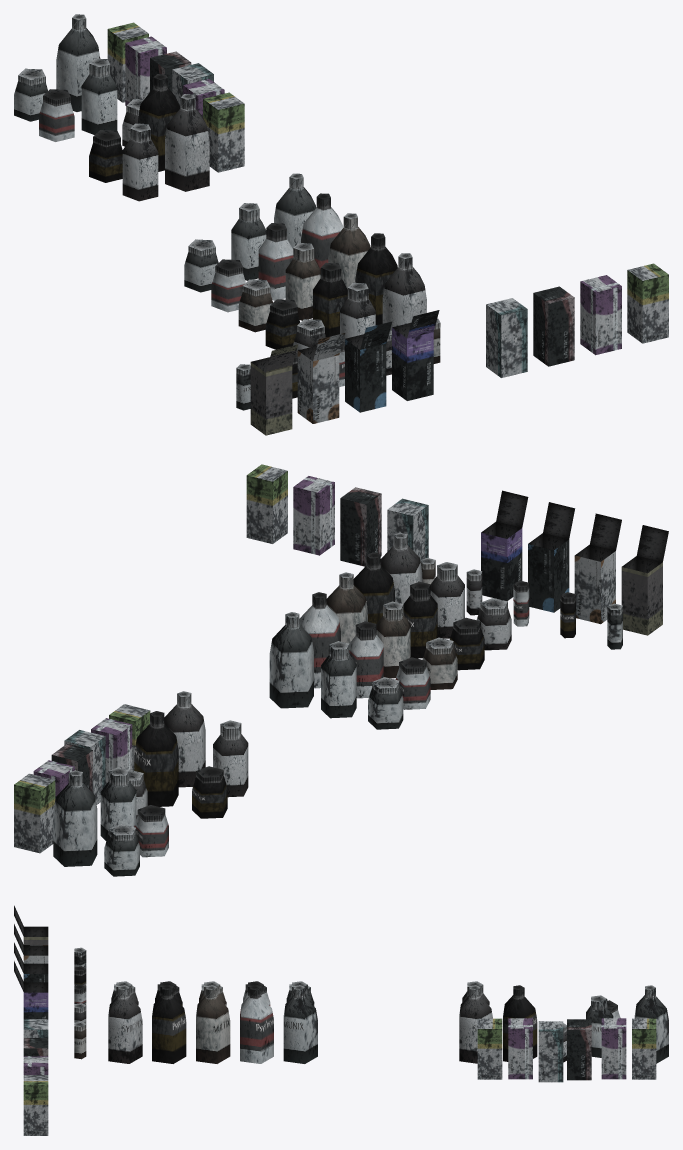
The model's file is medicines.fbx.
3 renders of one model, top to bottom at view 1: azimuth 30°, elevation 25°; view 2: azimuth 150°, elevation 25°; view 3: azimuth 270°, elevation 25°, orthographic. The views are drawn at different scales.
Visible parts, largest first — view 1: medicine_shelf, medicine_box_H, medicine_box_G, medicine_box_F, medicine_box_E, medicine_box_A, medicine_box_B, medicine_box_C, medicine_box_D, medicine_big_A, medicine_mid_C, medicine_mid_E (+13 smaller); view 2: medicine_shelf, medicine_box_H, medicine_box_F, medicine_box_E, medicine_box_G, medicine_big_E, medicine_box_B, medicine_box_A, medicine_box_C, medicine_mid_E, medicine_mid_D, medicine_mid_A (+16 smaller); view 3: medicine_shelf, medicine_big_A, medicine_big_B, medicine_big_C, medicine_big_E, medicine_big_D, medicine_box_A, medicine_box_E, medicine_box_F, medicine_box_H, medicine_box_G, medicine_box_D (+3 smaller).
Boxes of the visible parts, x1=… form: medicine_shelf: x1=14, y1=14, x2=244, y2=201; medicine_box_H: x1=250, y1=344, x2=298, y2=435; medicine_box_G: x1=297, y1=333, x2=345, y2=423; medicine_box_F: x1=345, y1=321, x2=392, y2=412; medicine_box_E: x1=392, y1=310, x2=439, y2=400; medicine_box_A: x1=627, y1=263, x2=668, y2=343; medicine_box_B: x1=580, y1=275, x2=621, y2=355; medicine_box_C: x1=533, y1=286, x2=574, y2=366; medicine_box_D: x1=486, y1=298, x2=527, y2=377; medicine_big_A: x1=382, y1=253, x2=426, y2=330; medicine_mid_C: x1=285, y1=243, x2=320, y2=320; medicine_mid_E: x1=231, y1=203, x2=266, y2=280; medicine_shelf: x1=14, y1=691, x2=248, y2=876; medicine_box_H: x1=621, y1=525, x2=668, y2=635; medicine_box_F: x1=528, y1=502, x2=575, y2=612; medicine_box_E: x1=481, y1=490, x2=528, y2=601; medicine_box_G: x1=574, y1=513, x2=621, y2=624; medicine_big_E: x1=269, y1=612, x2=313, y2=708; medicine_box_B: x1=293, y1=476, x2=334, y2=555; medicine_box_A: x1=246, y1=464, x2=287, y2=543; medicine_box_C: x1=340, y1=487, x2=381, y2=566; medicine_mid_E: x1=321, y1=641, x2=356, y2=718; medicine_mid_D: x1=349, y1=621, x2=383, y2=698; medicine_mid_A: x1=430, y1=562, x2=464, y2=638; medicine_shelf: x1=459, y1=981, x2=668, y2=1082; medicine_big_A: x1=108, y1=985, x2=142, y2=1063; medicine_big_B: x1=152, y1=985, x2=186, y2=1063; medicine_big_C: x1=196, y1=985, x2=230, y2=1063; medicine_big_E: x1=283, y1=985, x2=317, y2=1063; medicine_big_D: x1=240, y1=985, x2=273, y2=1063; medicine_box_A: x1=23, y1=1075, x2=48, y2=1135; medicine_box_E: x1=14, y1=961, x2=48, y2=1019; medicine_box_F: x1=14, y1=942, x2=48, y2=982; medicine_box_H: x1=14, y1=905, x2=48, y2=944; medicine_box_G: x1=14, y1=924, x2=48, y2=963; medicine_box_D: x1=23, y1=1019, x2=48, y2=1037.
Size of the model in its own units: 8.56 by 1.81 by 14.93.
